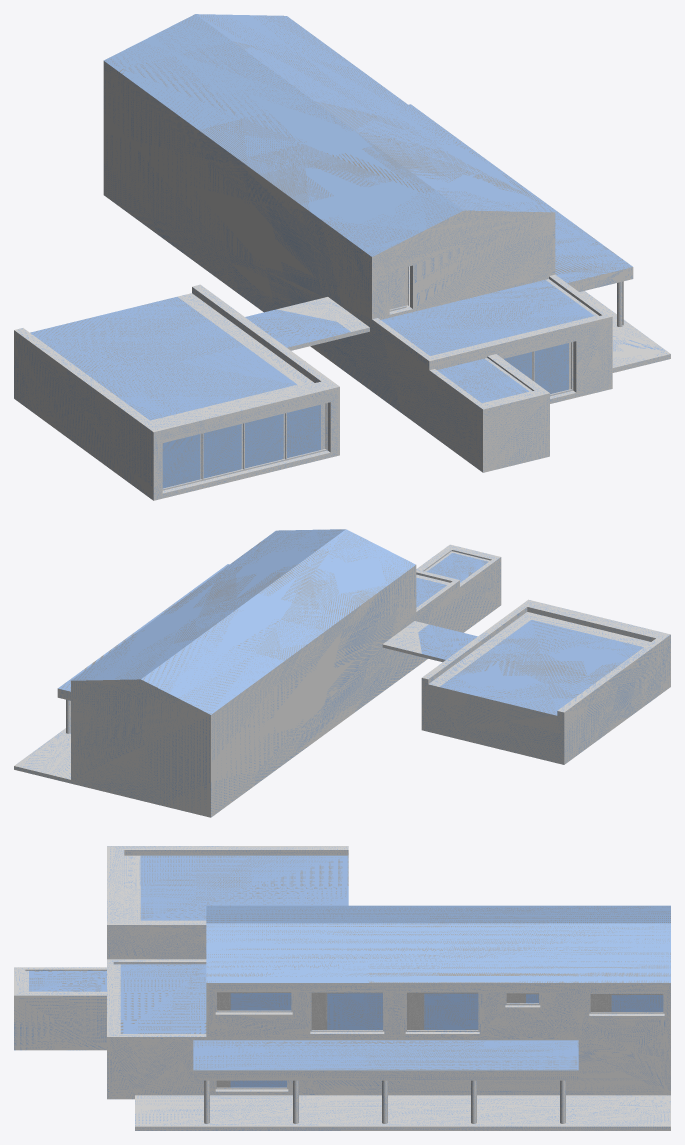
Rendered from uno2.dae.
The picture shows the model from 3 angles, top to bottom: view 1: azimuth 30°, elevation 25°; view 2: azimuth 150°, elevation 25°; view 3: azimuth 270°, elevation 25°; orthographic projection. The views are drawn at different scales.
Visible parts, largest first — view 1: instance_0, instance_0_001, instance_0_009, instance_0_033, instance_0_032, instance_0_002, instance_0_034, instance_0_031, instance_0_010, instance_0_028, instance_0_029, instance_0_030 (+3 smaller); view 2: instance_0, instance_0_001, instance_0_009, instance_0_033, instance_0_034, instance_0_031, instance_0_032, instance_0_002; view 3: instance_0, instance_0_001, instance_0_002, instance_0_033, instance_0_009, instance_0_032, instance_0_019, instance_0_017, instance_0_031, instance_0_021, instance_0_013, instance_0_018 (+6 smaller).
Boxes of the visible parts, <box> form: instance_0: <box>103,61,670,472</box>; instance_0_001: <box>104,14,554,256</box>; instance_0_009: <box>14,284,369,500</box>; instance_0_033: <box>30,296,296,420</box>; instance_0_032: <box>381,280,594,355</box>; instance_0_002: <box>408,104,632,282</box>; instance_0_034: <box>245,309,350,347</box>; instance_0_031: <box>437,358,528,402</box>; instance_0_010: <box>162,402,330,493</box>; instance_0_028: <box>245,413,283,468</box>; instance_0_029: <box>203,424,241,478</box>; instance_0_030: <box>162,434,200,488</box>; instance_0: <box>14,544,501,817</box>; instance_0_001: <box>71,529,415,714</box>; instance_0_009: <box>382,599,670,764</box>; instance_0_033: <box>440,620,643,715</box>; instance_0_034: <box>418,624,477,659</box>; instance_0_031: <box>427,553,488,582</box>; instance_0_032: <box>416,577,446,607</box>; instance_0_002: <box>58,564,229,691</box>; instance_0: <box>14,959,670,1130</box>; instance_0_001: <box>206,905,670,982</box>; instance_0_002: <box>193,1040,578,1070</box>; instance_0_033: <box>140,855,348,920</box>; instance_0_009: <box>107,846,348,959</box>; instance_0_032: <box>120,964,206,1033</box>; instance_0_019: <box>327,993,382,1029</box>; instance_0_017: <box>424,993,478,1029</box>; instance_0_031: <box>29,971,106,991</box>; instance_0_021: <box>230,993,291,1010</box>; instance_0_013: <box>611,995,663,1011</box>; instance_0_018: <box>407,992,478,1029</box>.
Bounding box in the file's own units: 1.79 × 2.21 × 0.5093.
